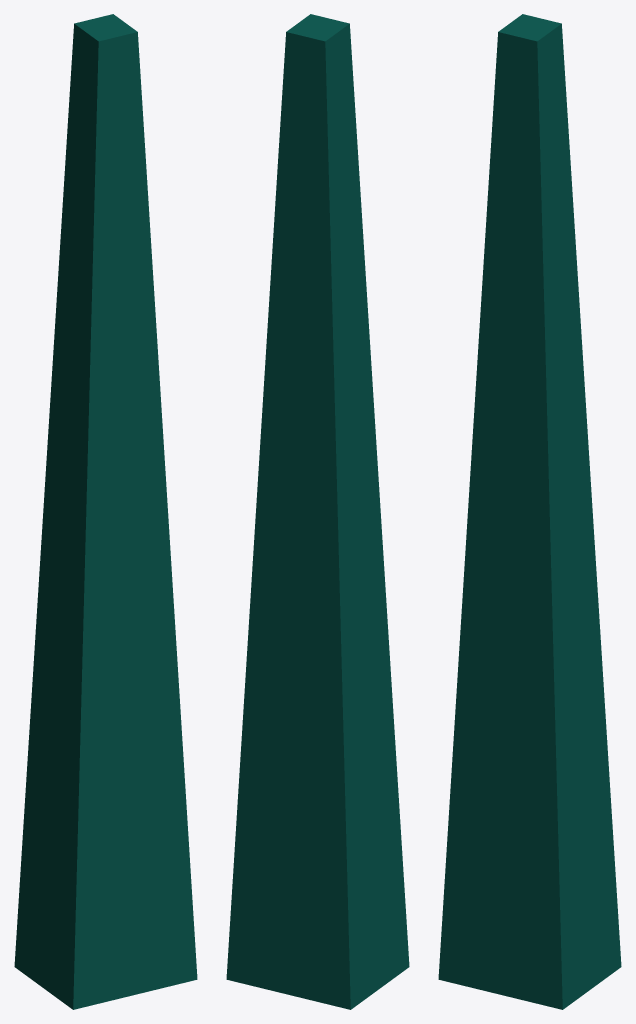
The model's file is Grass.fbx.
3 views of the same model, side by side, from view 1: azimuth 30°, elevation 25°; view 2: azimuth 150°, elevation 25°; view 3: azimuth 330°, elevation 25° (orthographic).
Parts seen in each view (by area): view 1: pCube3; view 2: pCube3; view 3: pCube3.
Part boxes in pixels (left/top/right/bottom): pCube3: left=14, top=14, right=197, bottom=1009; pCube3: left=226, top=14, right=409, bottom=1009; pCube3: left=438, top=14, right=621, bottom=1009.
Bounding box in the file's own units: 0.4564 × 3.32 × 0.3734.
